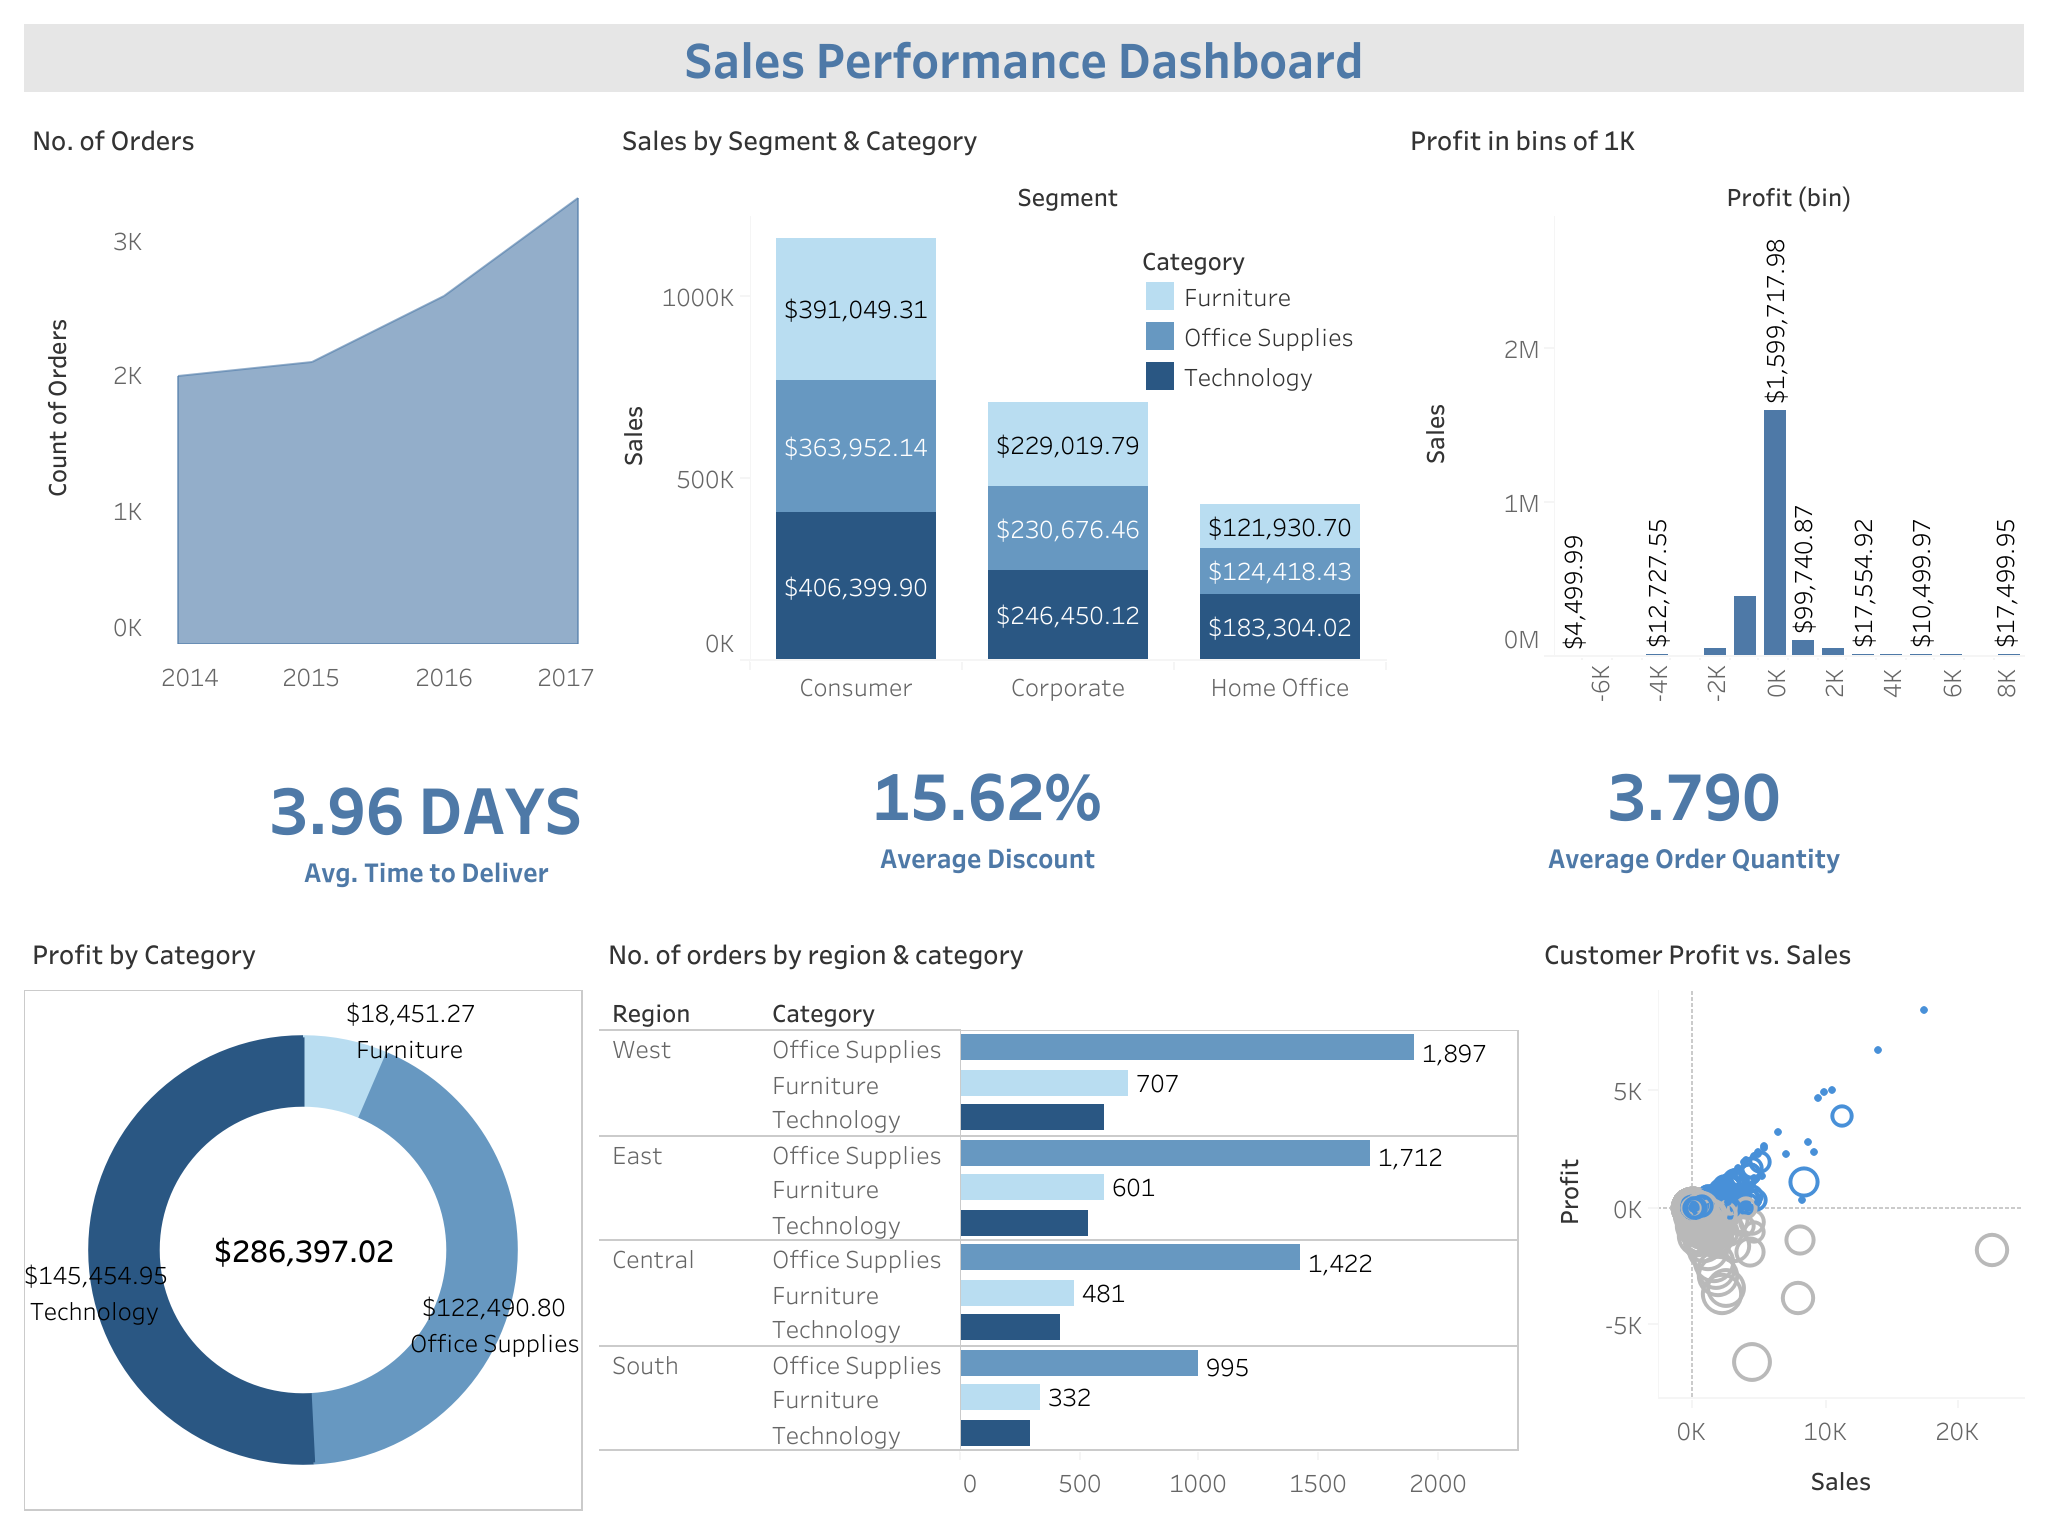

The dashboard page shown, as its layout file describes it:
{"tool":"tableau","page":{"name":"Sales Performance Dashboard","canvas":[1024,768],"ordinal":0},"visuals":[{"type":"title","box":[8,8,1008,49]},{"type":"worksheet","title":"No. of Orders","mark":"Area","rows":["Orders_AD9D5D065AF94524BCC710238C6767D7"],"cols":["Order Date"],"box":[8,57,294.8,303]},{"type":"worksheet","title":"Sales by Segment & Category","mark":"Automatic","rows":["Sales"],"cols":["Segment"],"box":[302.8,57,394.6,303]},{"type":"worksheet","title":"Profit in bins of 1K","mark":"Automatic","rows":["Sales"],"cols":["Profit (bin)"],"box":[697.4,57,318.6,303]},{"type":"legend","title":"Sales by Segment & Category","param":"[federated.16lcczq1yitoz61a1taq61b69xd2].[none:Category:nk]","box":[570,119,140,85]},{"type":"worksheet","title":"KPI1","mark":"Automatic","box":[8,360,412,100]},{"type":"worksheet","title":"KPI2","mark":"Automatic","box":[420,360,344,100]},{"type":"worksheet","title":"KPI3","mark":"Automatic","box":[764,360,252,100]},{"type":"worksheet","title":"Profit by Category","mark":"Pie","cols":["Calculation_-1240741644704579582","Calculation_-1240741644704579582"],"box":[8,460,288,300]},{"type":"worksheet","title":"No. of orders by region & category","mark":"Automatic","rows":["Region","Category"],"cols":["Orders_AD9D5D065AF94524BCC710238C6767D7"],"box":[296,460,468,300]},{"type":"worksheet","title":"Customer Profit vs. Sales","mark":"Automatic","rows":["Profit"],"cols":["Sales"],"box":[764,460,252,300]}]}

Visuals, with their boxes in screenshot pixels (x1, y1, x2, y2), scaled from the page's 1024x768 canvas onto the 2046x1534 screenshot:
title: box(16, 16, 2030, 114)
"No. of Orders" worksheet (Area marks): box(16, 114, 605, 719)
"Sales by Segment & Category" worksheet: box(605, 114, 1393, 719)
"Profit in bins of 1K" worksheet: box(1393, 114, 2030, 719)
"Sales by Segment & Category" legend: box(1139, 238, 1419, 407)
"KPI1" worksheet: box(16, 719, 839, 919)
"KPI2" worksheet: box(839, 719, 1527, 919)
"KPI3" worksheet: box(1527, 719, 2030, 919)
"Profit by Category" worksheet (Pie marks): box(16, 919, 591, 1518)
"No. of orders by region & category" worksheet: box(591, 919, 1527, 1518)
"Customer Profit vs. Sales" worksheet: box(1527, 919, 2030, 1518)
